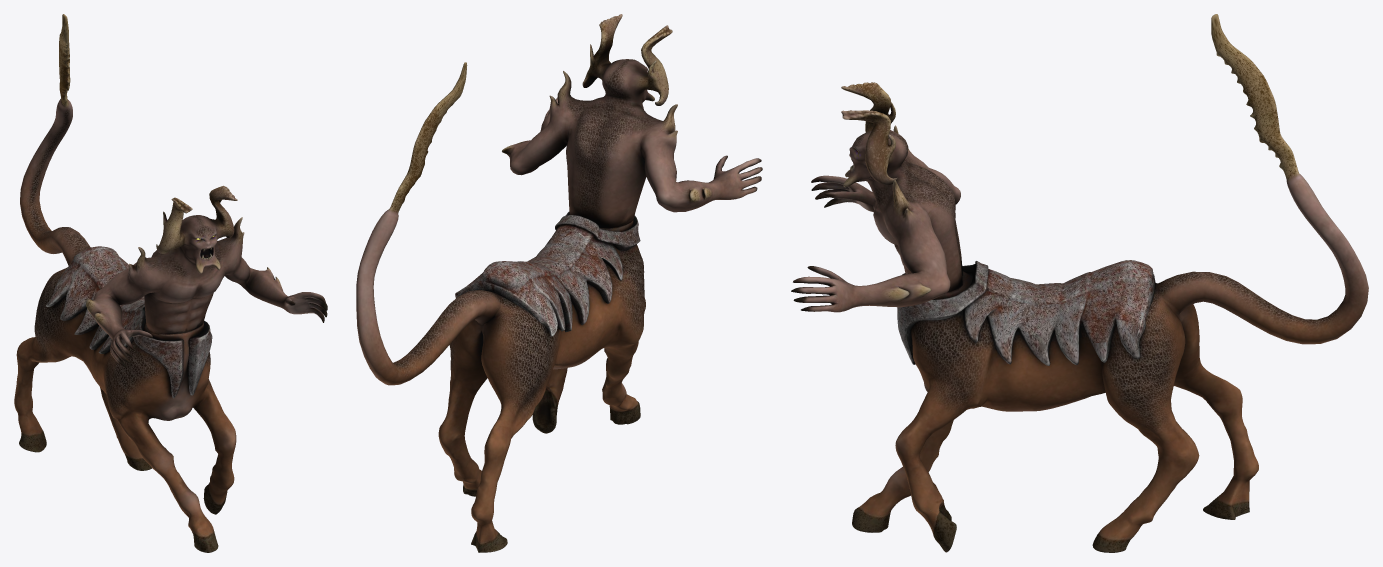
The model's file is MZ4250 - Armanite.glb.
The picture shows the model from 3 angles, left to right: view 1: azimuth 30°, elevation 25°; view 2: azimuth 150°, elevation 25°; view 3: azimuth 270°, elevation 25°; orthographic projection. The views are drawn at different scales.
Visible parts, largest first — view 1: Armanite.001; view 2: Armanite.001; view 3: Armanite.001.
Boxes of the visible parts, x1=… form: Armanite.001: x1=14, y1=14, x2=327, y2=552; Armanite.001: x1=356, y1=14, x2=762, y2=552; Armanite.001: x1=791, y1=14, x2=1368, y2=552.
Size of the model in its own units: 31.53 by 65.43 by 66.6.
1 material, 1 textured.
